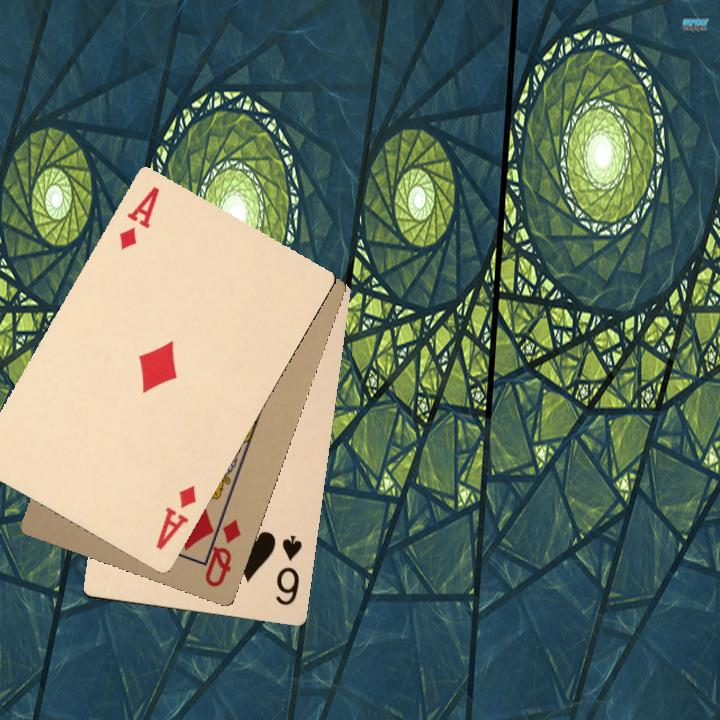6s: (271, 531, 305, 608)
Ad: (152, 482, 199, 553), (115, 182, 162, 253)
Qd: (199, 506, 244, 590)
